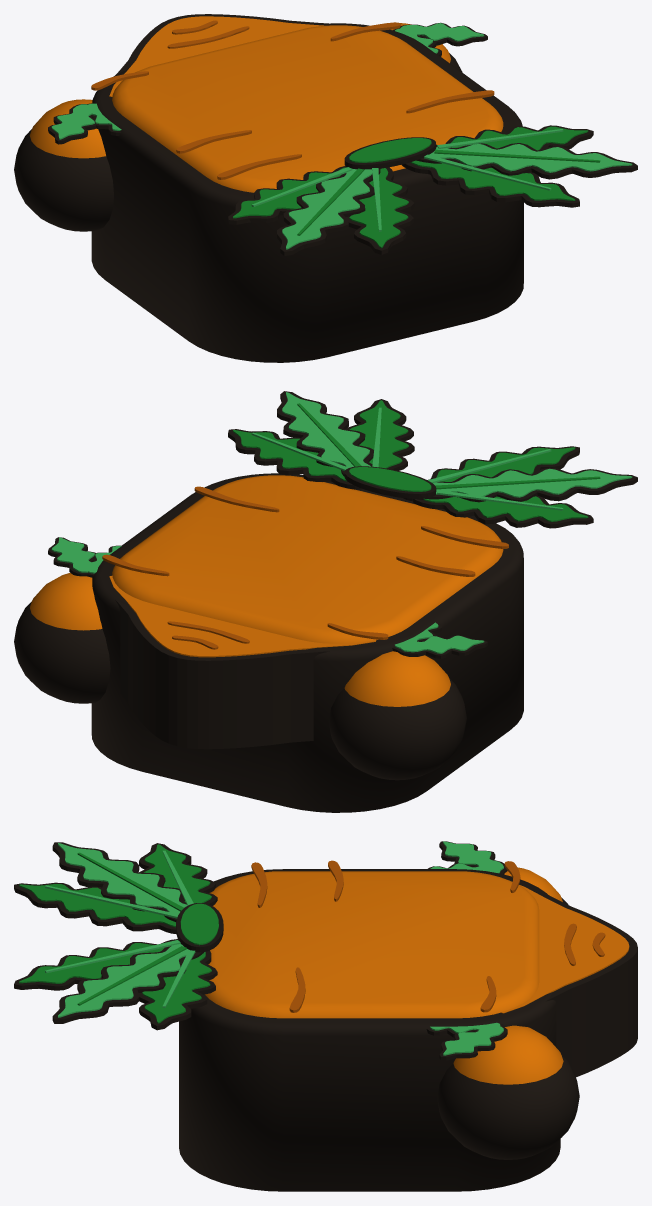
The model's file is body_cenoura.fbx.
3 views of the same model, one above another, from view 1: azimuth 30°, elevation 25°; view 2: azimuth 150°, elevation 25°; view 3: azimuth 270°, elevation 25° (orthographic). The views are drawn at different scales.
Parts seen in each view (by area): view 1: body_cenoura_corpo, body_cenoura_mao_esq, body_cenoura_mao; view 2: body_cenoura_corpo, body_cenoura_mao_esq, body_cenoura_mao; view 3: body_cenoura_corpo, body_cenoura_mao, body_cenoura_mao_esq.
Part boxes in pixels (x1,y1,x2,y2): body_cenoura_corpo: [91, 14, 637, 362]; body_cenoura_mao_esq: [14, 99, 121, 231]; body_cenoura_mao: [391, 22, 487, 72]; body_cenoura_corpo: [91, 391, 637, 812]; body_cenoura_mao_esq: [328, 622, 487, 780]; body_cenoura_mao: [14, 537, 121, 703]; body_cenoura_corpo: [14, 842, 637, 1191]; body_cenoura_mao: [426, 1022, 579, 1159]; body_cenoura_mao_esq: [428, 841, 568, 904].
Bounding box in the file's own units: 5.4 × 2.17 × 6.54.
Materials: 1 (1 with a texture image).
